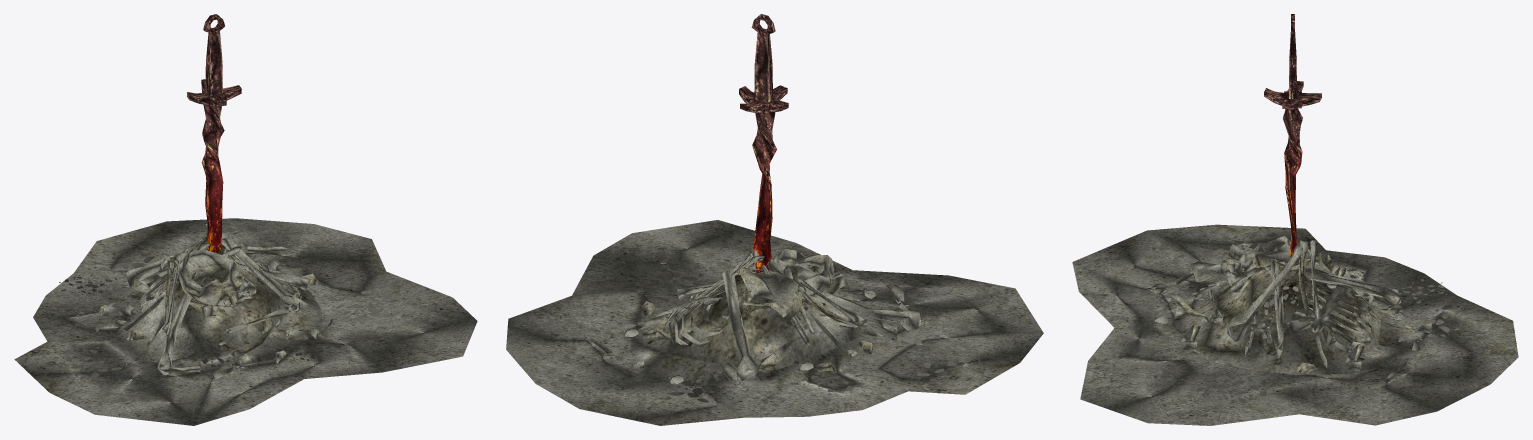
File: bonfire.obj
3 renders of one model, left to right at view 1: azimuth 30°, elevation 25°; view 2: azimuth 150°, elevation 25°; view 3: azimuth 270°, elevation 25°, orthographic. The views are drawn at different scales.
Visible parts, largest first — view 1: mesh3, mesh4, mesh1, mesh0, mesh2; view 2: mesh3, mesh4, mesh1, mesh0, mesh2; view 3: mesh3, mesh4, mesh1, mesh0, mesh2.
Boxes of the visible parts, x1,y1,x2,y2 form: mesh3: [14, 218, 477, 425]; mesh4: [98, 224, 333, 379]; mesh1: [139, 256, 322, 368]; mesh0: [187, 14, 241, 252]; mesh2: [41, 244, 419, 390]; mesh3: [506, 220, 1043, 425]; mesh4: [587, 249, 921, 383]; mesh1: [630, 273, 897, 372]; mesh0: [739, 14, 788, 273]; mesh2: [617, 254, 1000, 416]; mesh3: [1072, 224, 1518, 425]; mesh4: [1145, 236, 1431, 380]; mesh1: [1172, 266, 1406, 374]; mesh0: [1264, 14, 1321, 256]; mesh2: [1132, 230, 1472, 408].
Size of the model in its own units: 1.39 by 1.01 by 1.3.
Materials: 5 (5 with a texture image).
